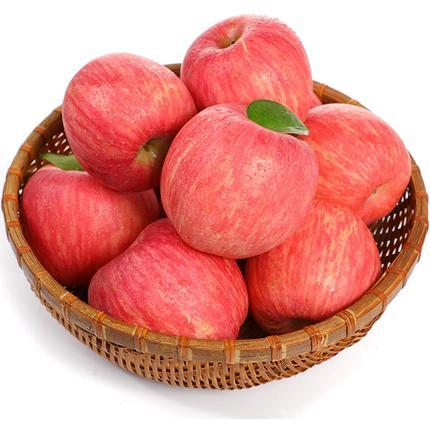apple: (163, 103, 315, 254), (86, 219, 248, 341), (57, 51, 196, 192), (246, 198, 381, 330), (23, 164, 160, 282), (180, 14, 315, 130), (297, 102, 410, 224)
